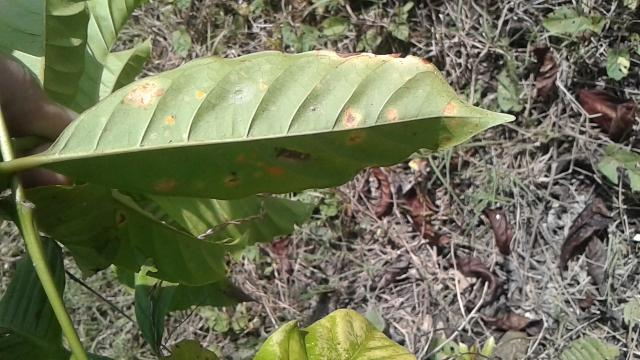rust_level_3: (42, 46, 522, 200)
